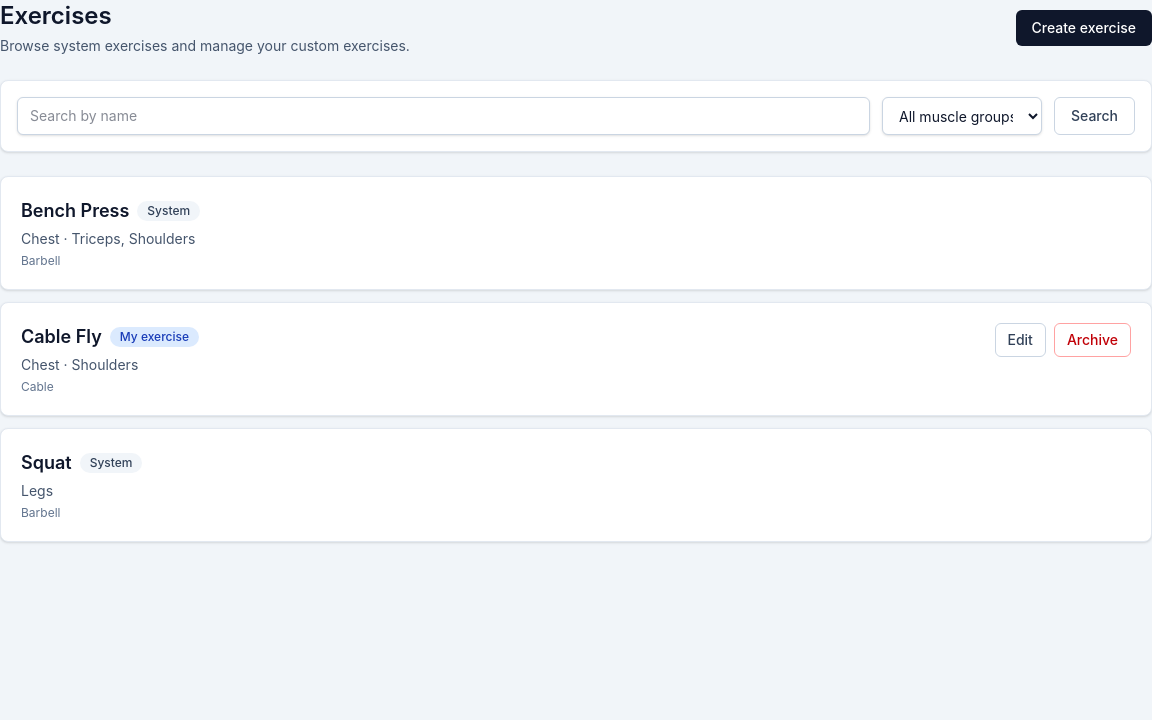
Test: ExerciseListPage › shows an archive error and keeps the exercise visible
Expected: the heading "Cable Fly" is shown, [21, 323, 102, 351]
Click the button "Archive" at (1092, 340), box [1054, 323, 1131, 357]
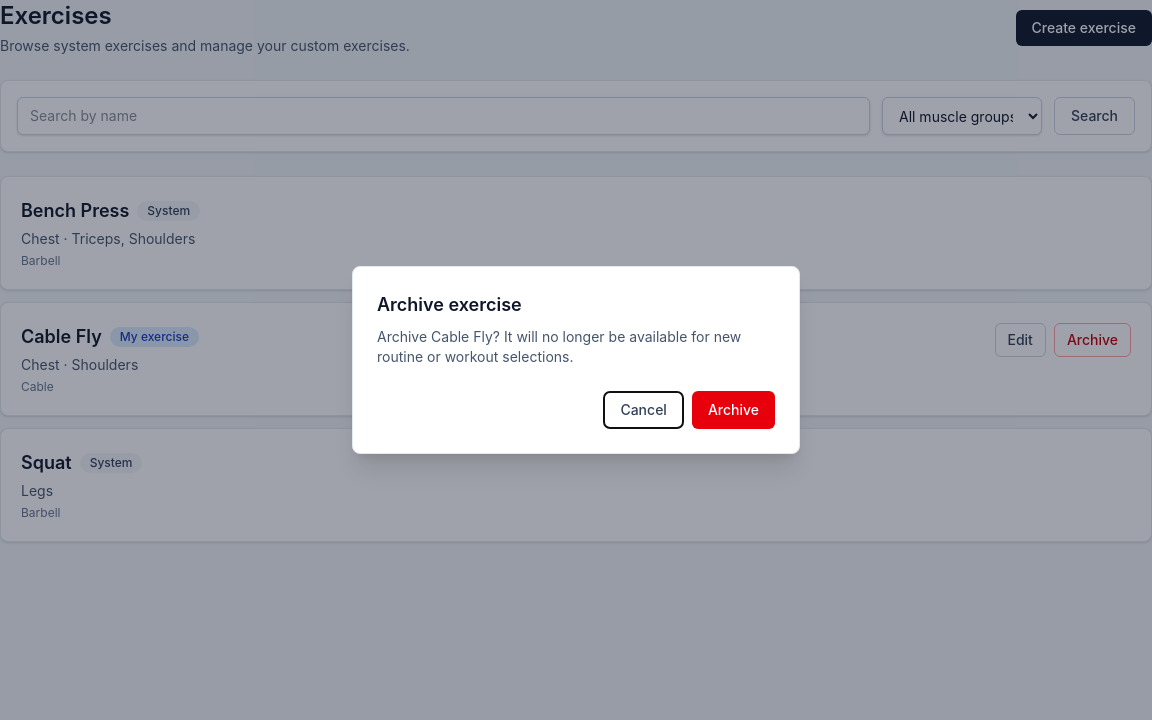
Click the button "Archive" at (733, 410), box [692, 391, 775, 429]
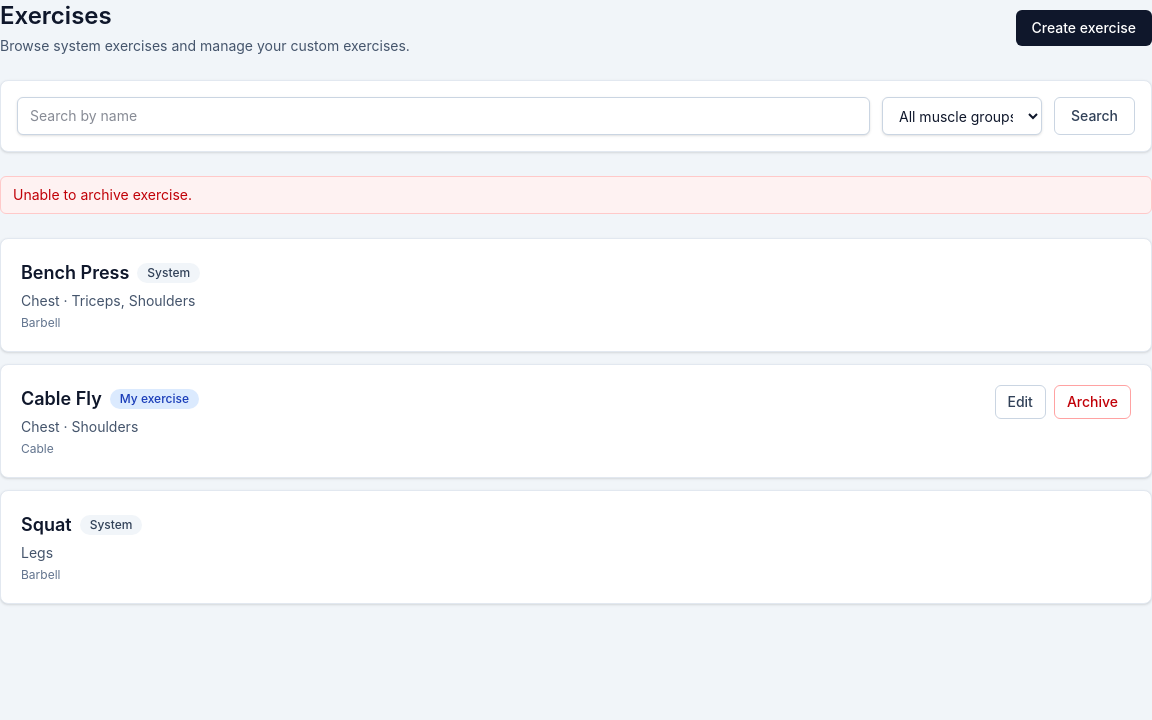
Expected: the heading "Cable Fly" is shown, [21, 385, 102, 413]
Now the message reads "Unable to archive exercise.", box [13, 186, 192, 203]
